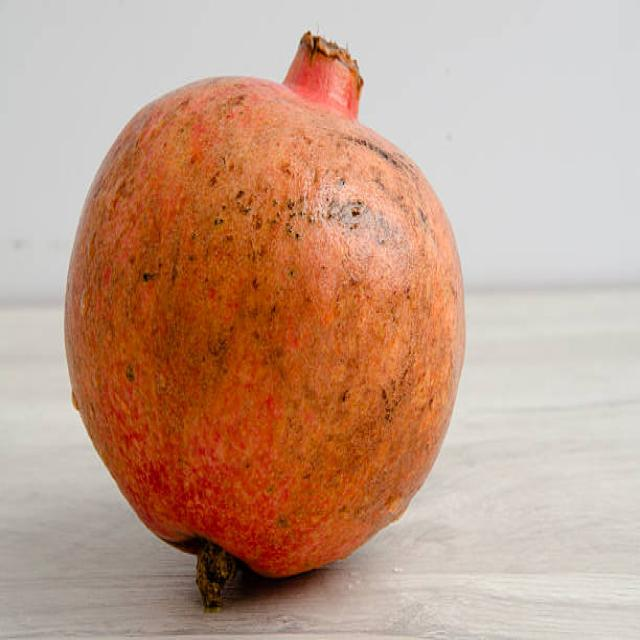overripe: (62, 25, 473, 616)
